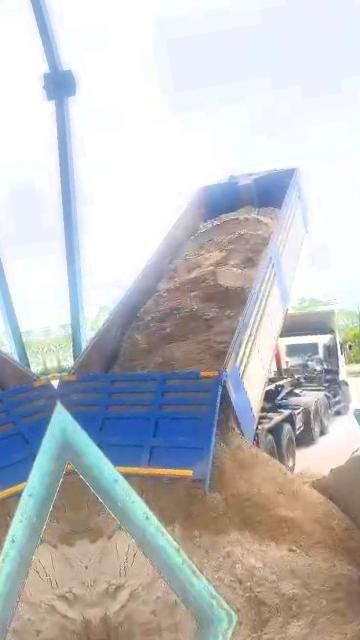sand: (131, 413, 360, 615), (113, 207, 276, 372), (72, 475, 193, 639), (312, 443, 360, 537), (296, 468, 323, 485)
